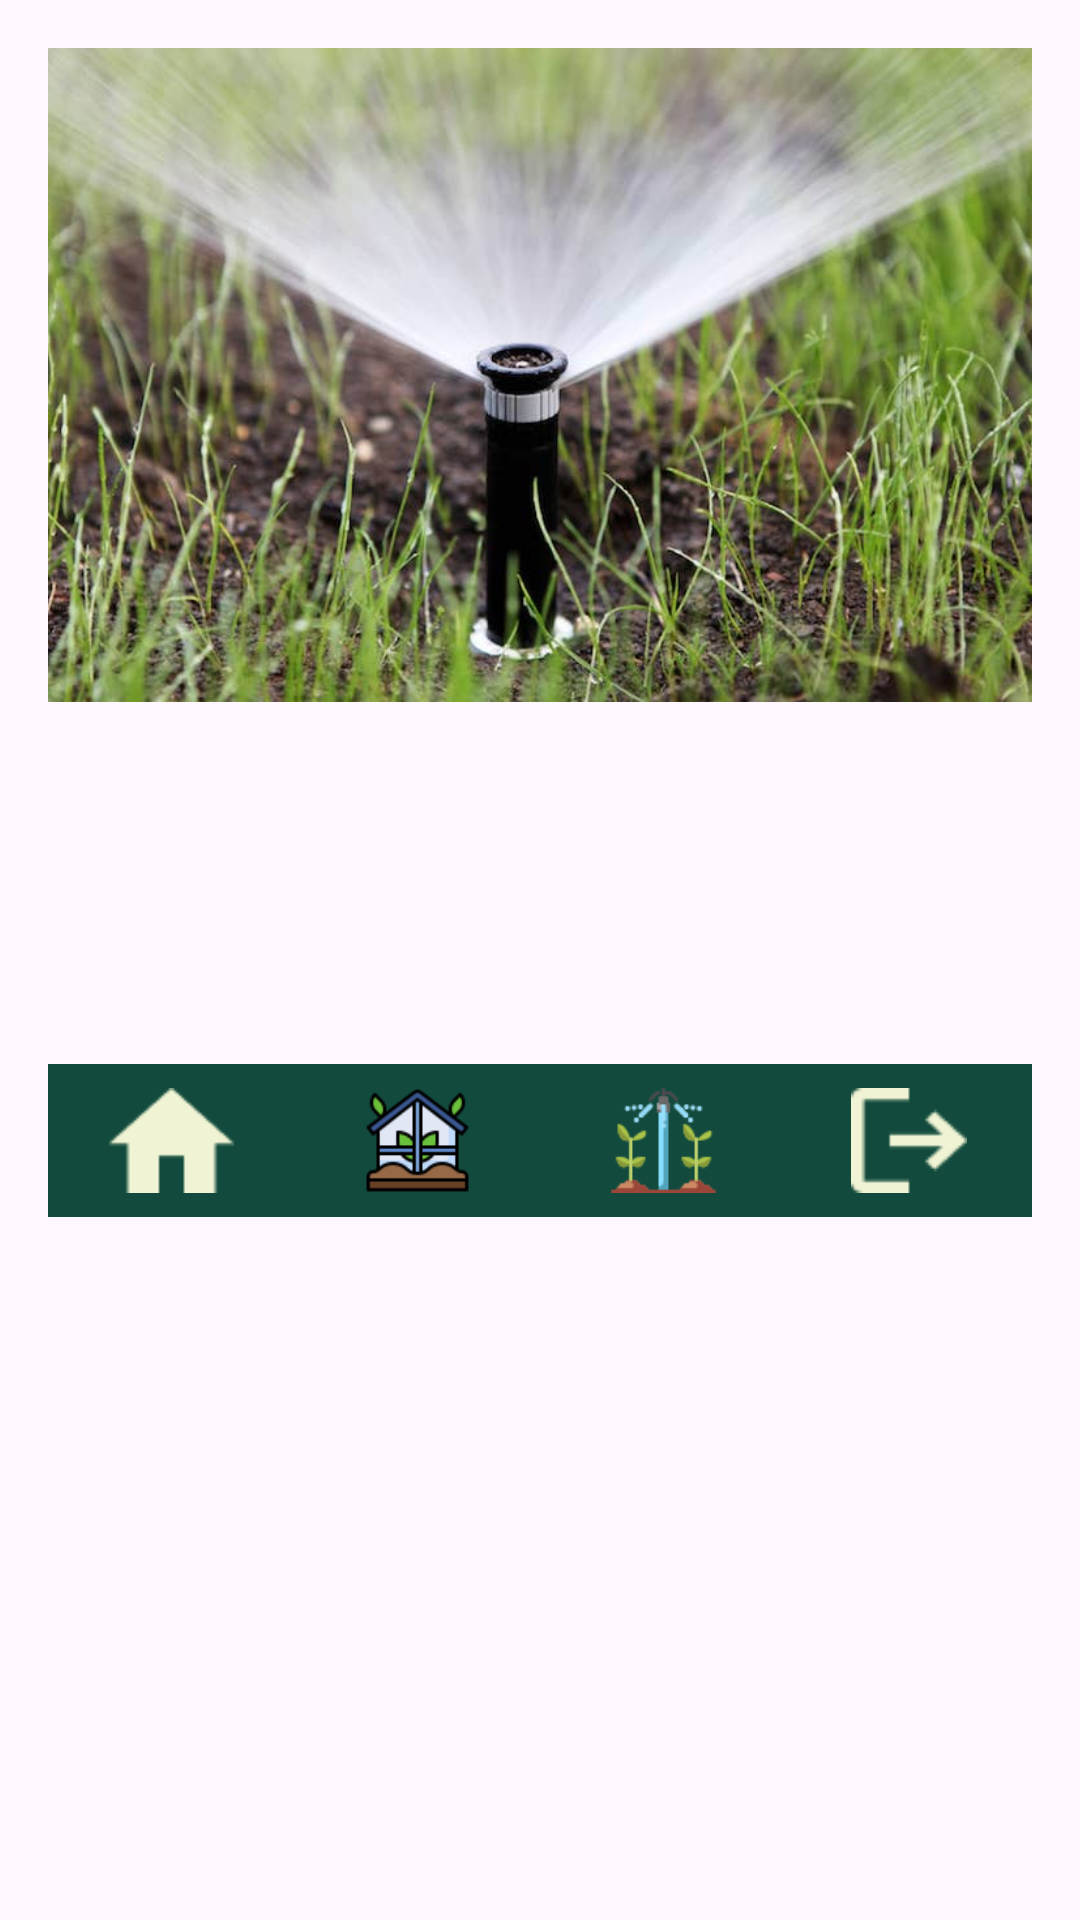

Locate icon controls on the screen. Image size 1080×1920, boxes as detection(x1, y1, x2, y2).
Greenhouses: detection(366, 1089, 469, 1192)
Home: detection(109, 1088, 234, 1193)
Irrigation: detection(611, 1088, 716, 1193)
